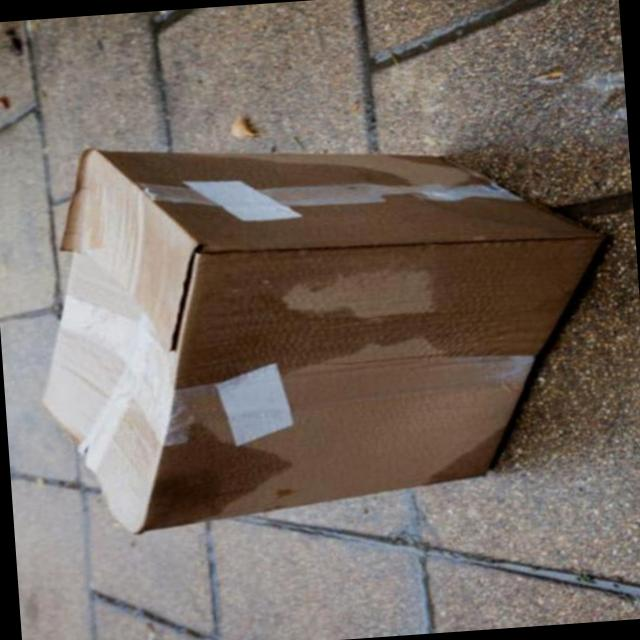box: (35, 146, 604, 538)
crushed: (44, 266, 166, 417)
normal_hole: (171, 241, 602, 388), (97, 148, 603, 241), (95, 423, 292, 529)
